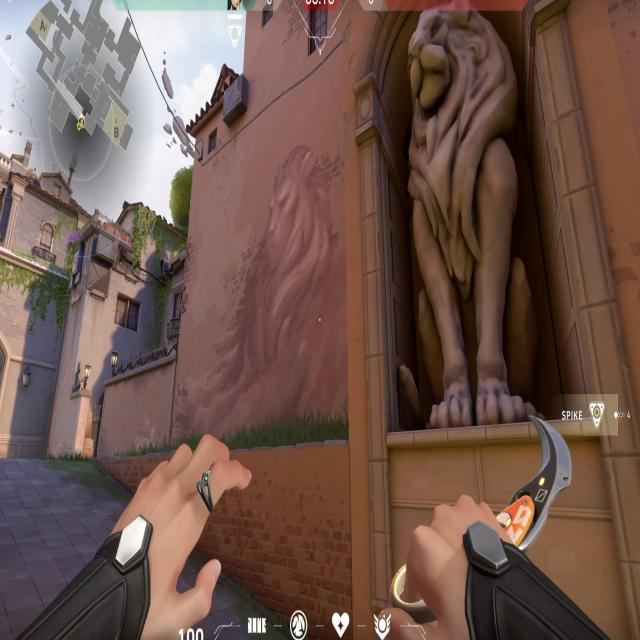Lion_Corner: (345, 1, 566, 439)
